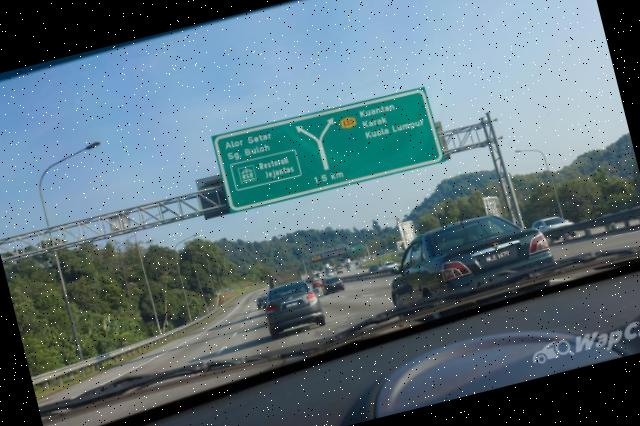License_Plate: (480, 246, 519, 269), (283, 300, 303, 311)
car: (384, 204, 561, 325), (261, 277, 327, 340)
